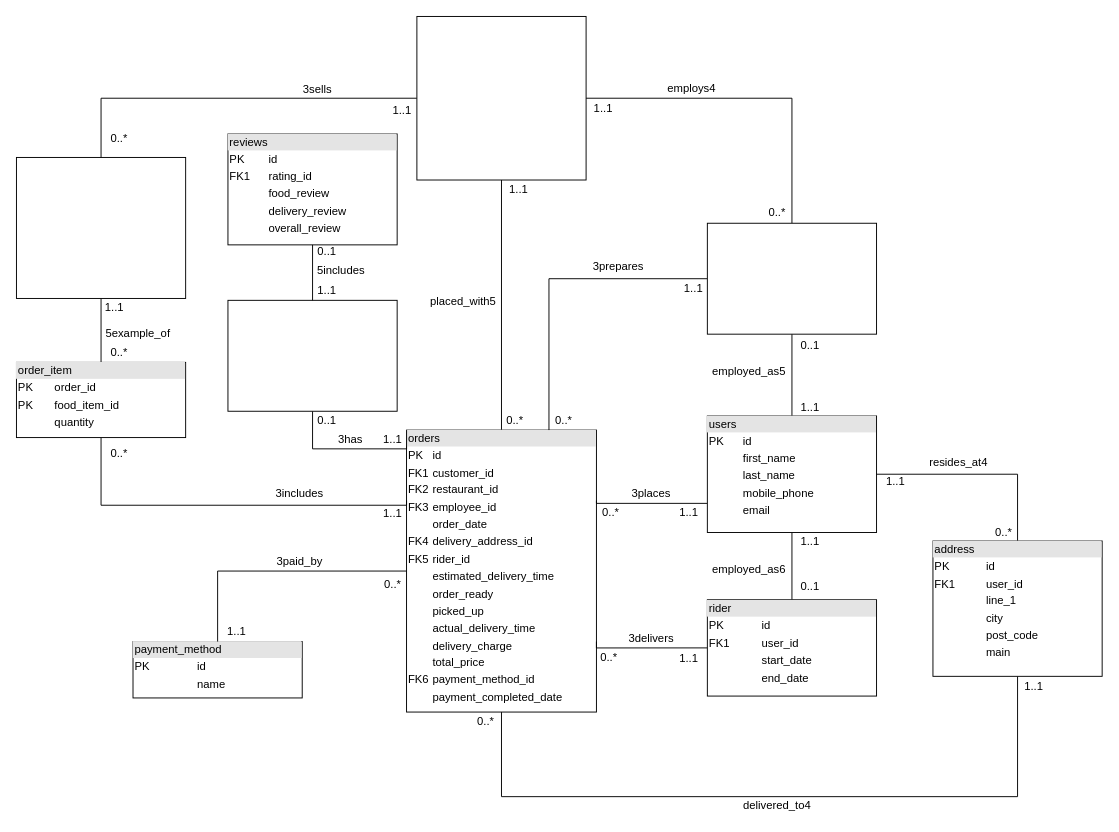
The diagram is 1119 pixels wide and 832 high, and some of its shapes have lost their labels. Each missing label, with the centre of its shape:
"employee PK id FK1 user_id FK2 restaurant_id start_date end_date" goes at point (791, 278).
"food_item PK id FK1 restaurant_id name description vegetarian alcohol price" goes at point (101, 227).
"ratings PK id FK1 order_id food_rating delivery_rating overall_rating" goes at point (312, 355).
"restaurant PK id name description address city post_code latitude longitude" goes at point (501, 98).
